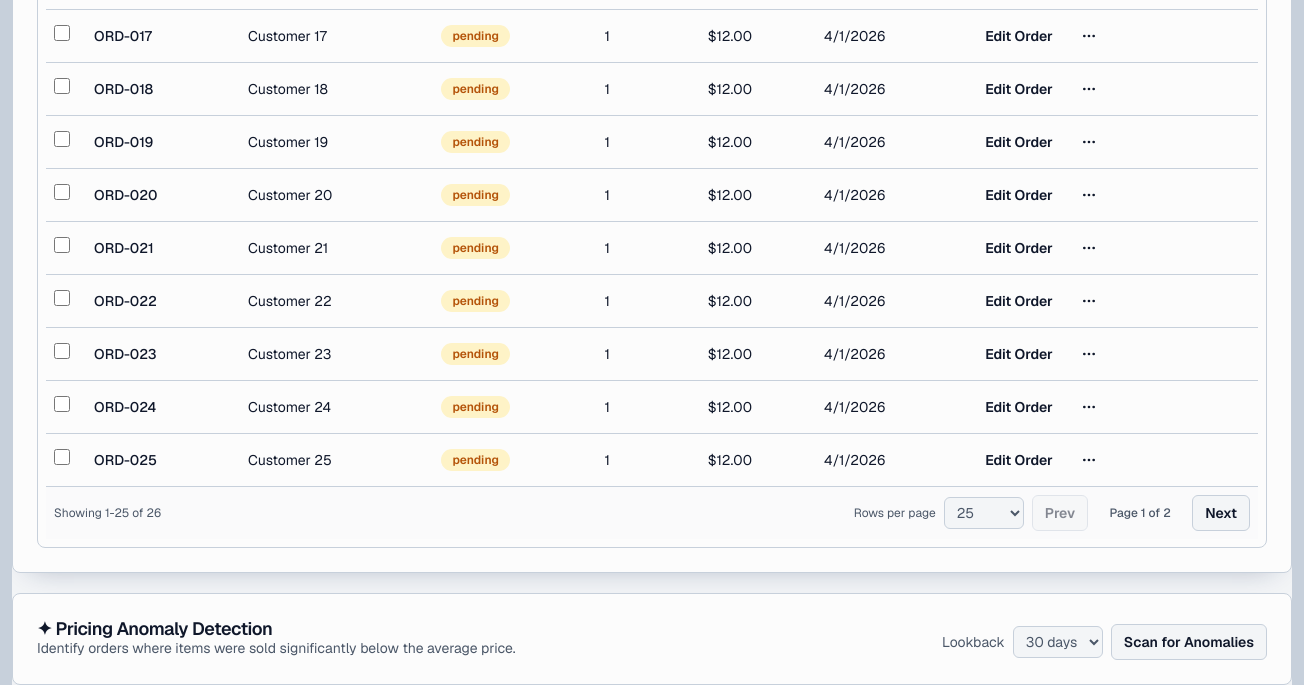
Test: OrdersPage › paginates the orders workbench after filtering
(page scrolled)
Expected: the text "ORD-026" is not shown
Expected: the text "Page 1 of 2" is shown, [1110, 504, 1171, 520]
Click the button with aria-label "Next page" at (1221, 512), box [1192, 494, 1250, 530]
(page scrolled)
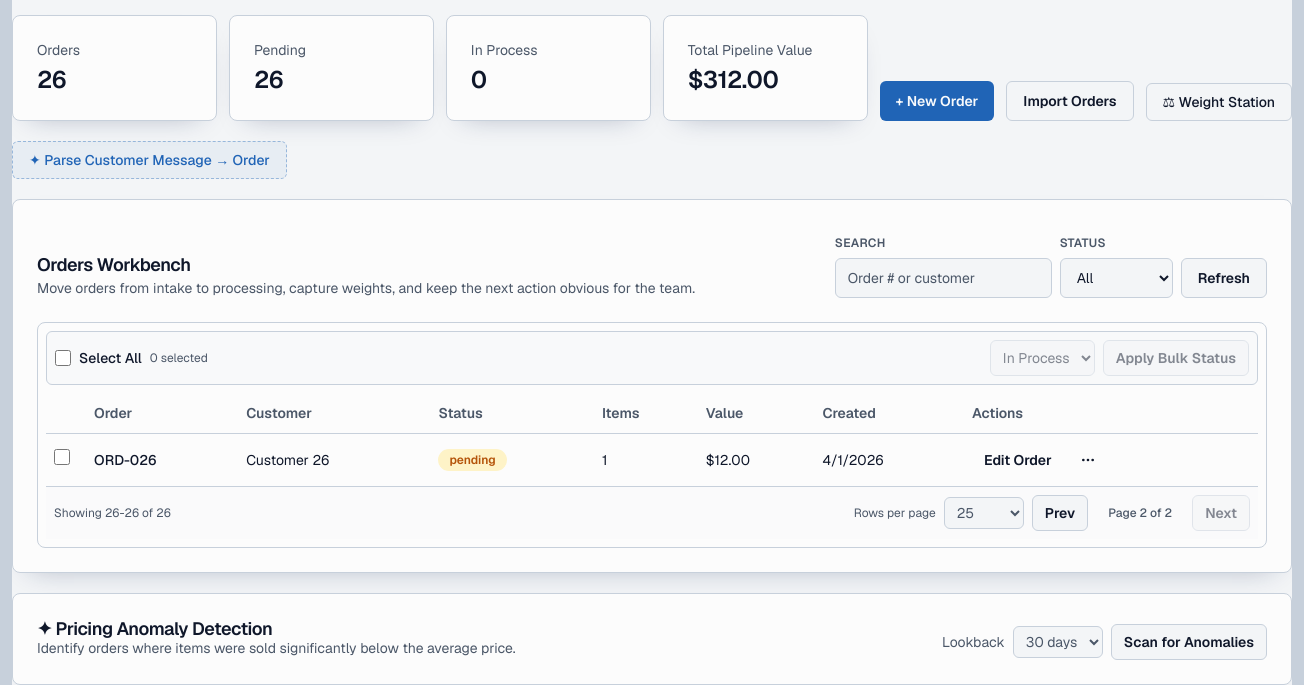
Now the text "ORD-026" is shown, box [94, 450, 156, 468]
Type "ORD-026" into the field with placeholder "Order # or customer" at (943, 278), box [835, 258, 1052, 298]
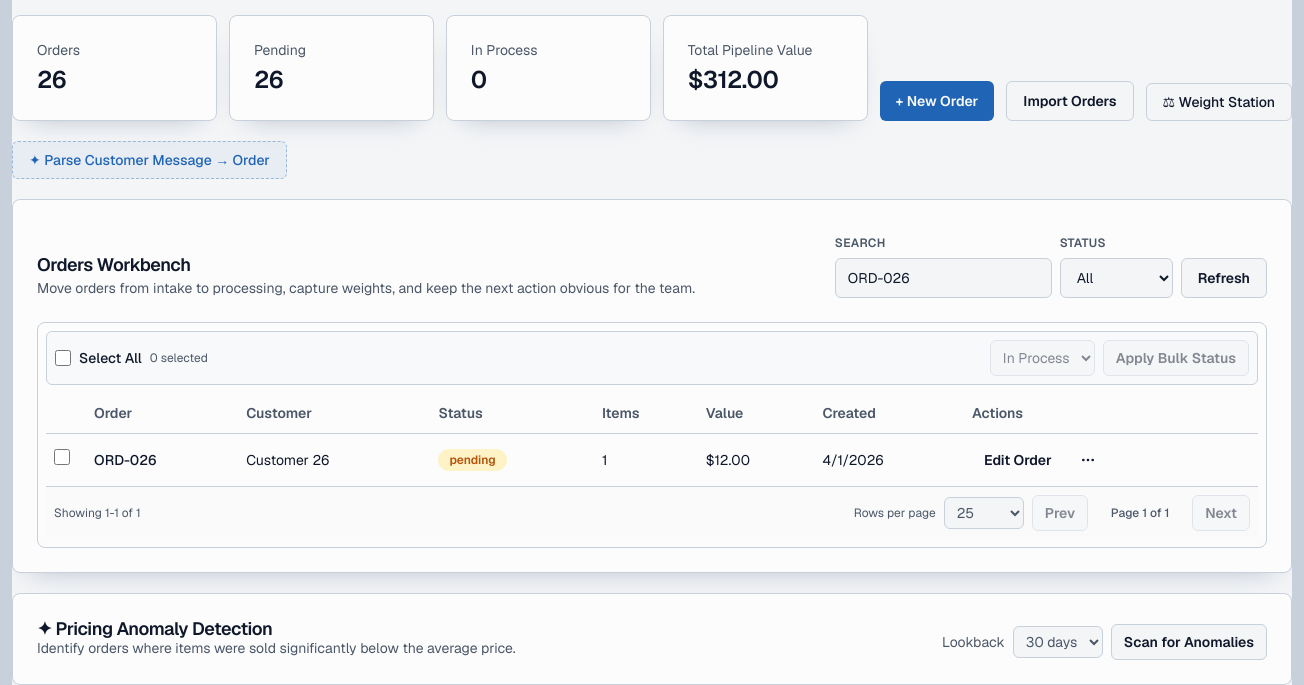
Now the text "ORD-026" is shown, box [94, 450, 156, 468]
Now the text "Page 1 of 1" is shown, box [1111, 504, 1169, 520]
